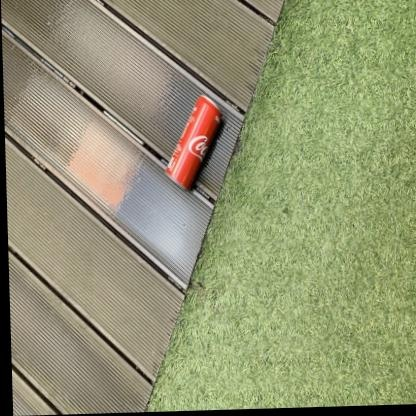trash: (165, 96, 221, 189)
